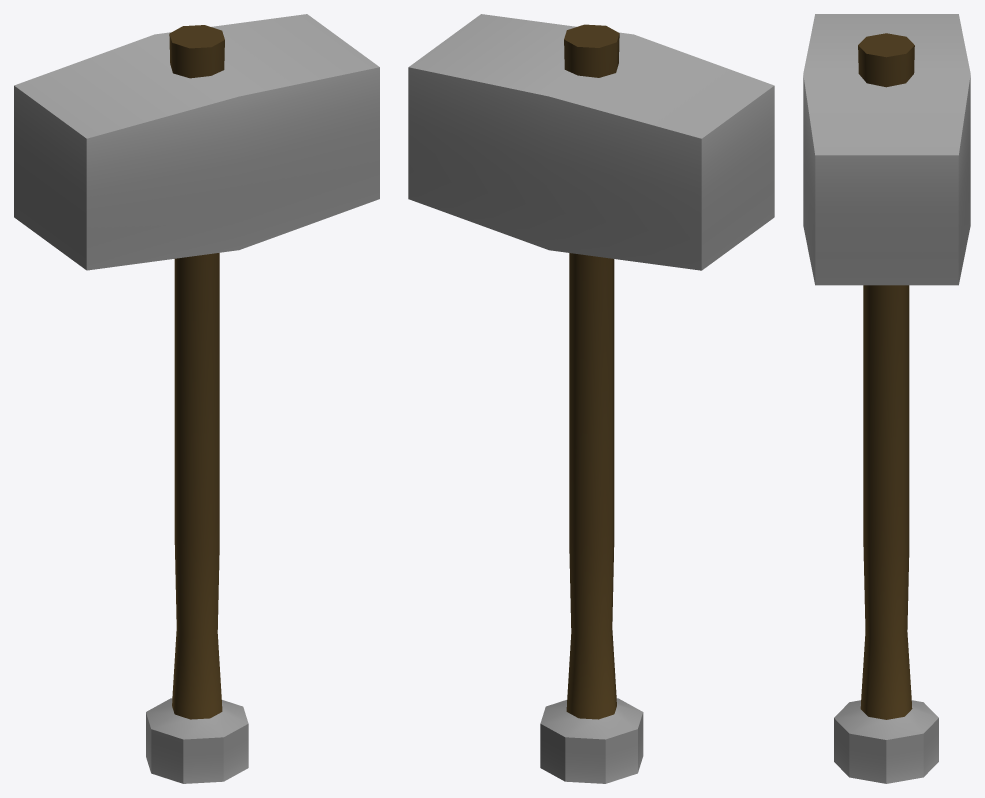
The model's file is ki-hammer.glb.
3 renders of one model, left to right at view 1: azimuth 30°, elevation 25°; view 2: azimuth 150°, elevation 25°; view 3: azimuth 270°, elevation 25°, orthographic.
Visible parts, largest first — view 1: HumanHammer; view 2: HumanHammer; view 3: HumanHammer.
Boxes of the visible parts, bbox=[...] form: HumanHammer: bbox=[14, 14, 379, 783]; HumanHammer: bbox=[408, 14, 774, 783]; HumanHammer: bbox=[803, 14, 970, 783].
Bounding box in the file's own units: 0.2732 × 0.6461 × 0.1368.
1 material, 1 textured.
